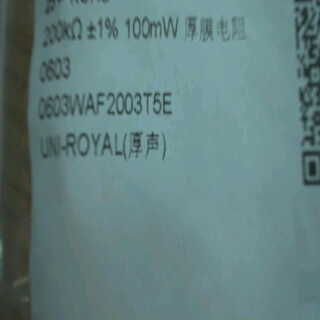200kR: (35, 15, 86, 47)
